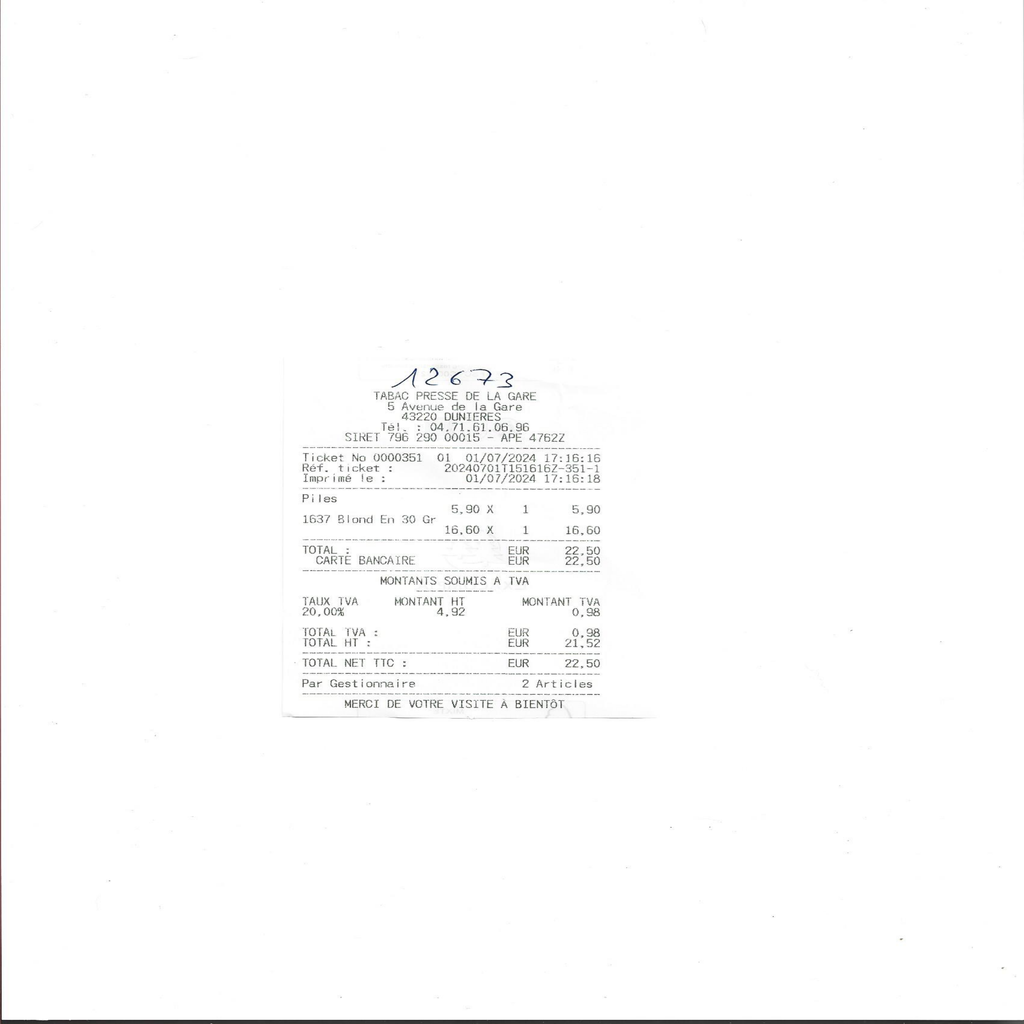recipt: (277, 323, 648, 745)
